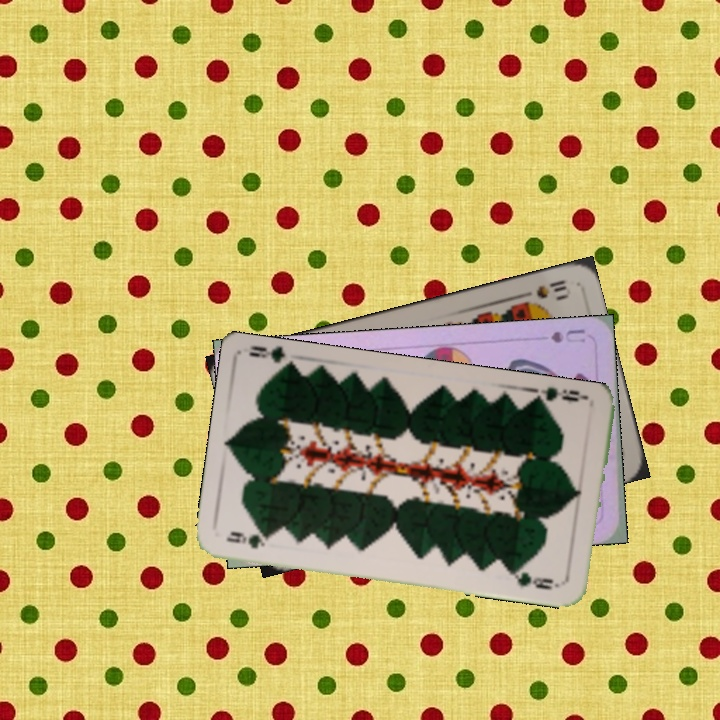G9: (532, 383, 591, 410), (222, 527, 274, 551)
S10: (515, 275, 574, 302)
SU: (547, 324, 588, 345)
